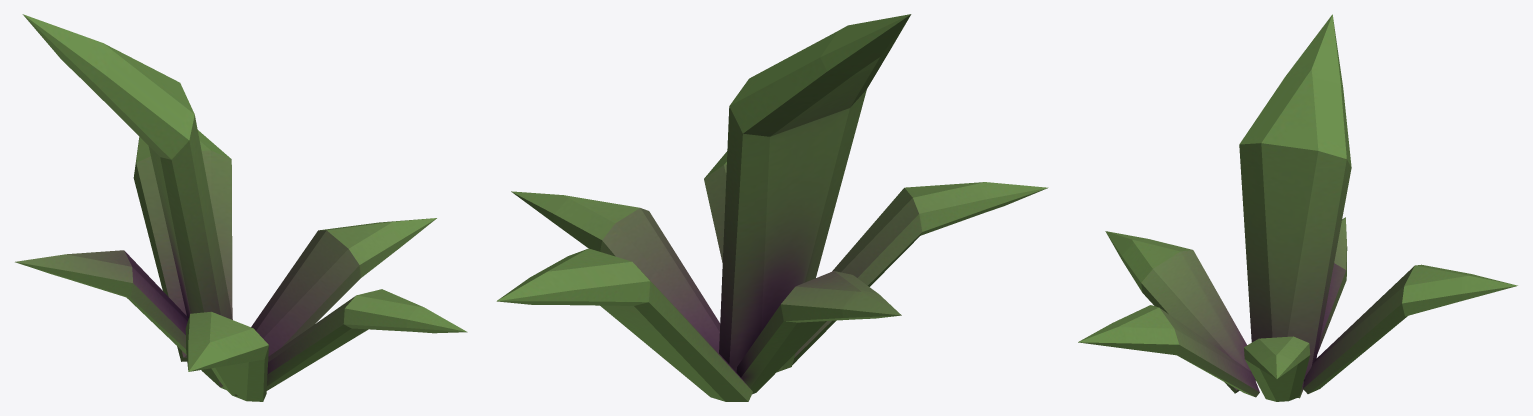
The model's file is grass.FBX.
3 renders of one model, left to right at view 1: azimuth 30°, elevation 25°; view 2: azimuth 150°, elevation 25°; view 3: azimuth 270°, elevation 25°, orthographic. The views are drawn at different scales.
Parts seen in each view (by area): view 1: Box906, Box919, Box918, Box907, Box910, Box911; view 2: Box906, Box907, Box919, Box911, Box910, Box918; view 3: Box906, Box911, Box907, Box918, Box919, Box910.
Boxes of the visible parts, x1=… form: Box906: x1=22, y1=14, x2=232, y2=387; Box919: x1=251, y1=218, x2=436, y2=356; Box918: x1=234, y1=289, x2=467, y2=396; Box907: x1=133, y1=130, x2=232, y2=361; Box910: x1=15, y1=250, x2=225, y2=389; Box911: x1=185, y1=311, x2=268, y2=401; Box906: x1=719, y1=14, x2=911, y2=372; Box907: x1=496, y1=248, x2=752, y2=401; Box919: x1=511, y1=191, x2=720, y2=352; Box911: x1=792, y1=182, x2=1048, y2=364; Box910: x1=736, y1=271, x2=901, y2=394; Box918: x1=704, y1=151, x2=727, y2=262; Box906: x1=1239, y1=14, x2=1351, y2=381; Box911: x1=1105, y1=231, x2=1255, y2=393; Box907: x1=1303, y1=264, x2=1517, y2=393; Box918: x1=1078, y1=305, x2=1259, y2=397; Box919: x1=1244, y1=336, x2=1310, y2=401; Box910: x1=1297, y1=217, x2=1347, y2=398.
Size of the model in its own units: 13 by 12.82 by 16.32.
